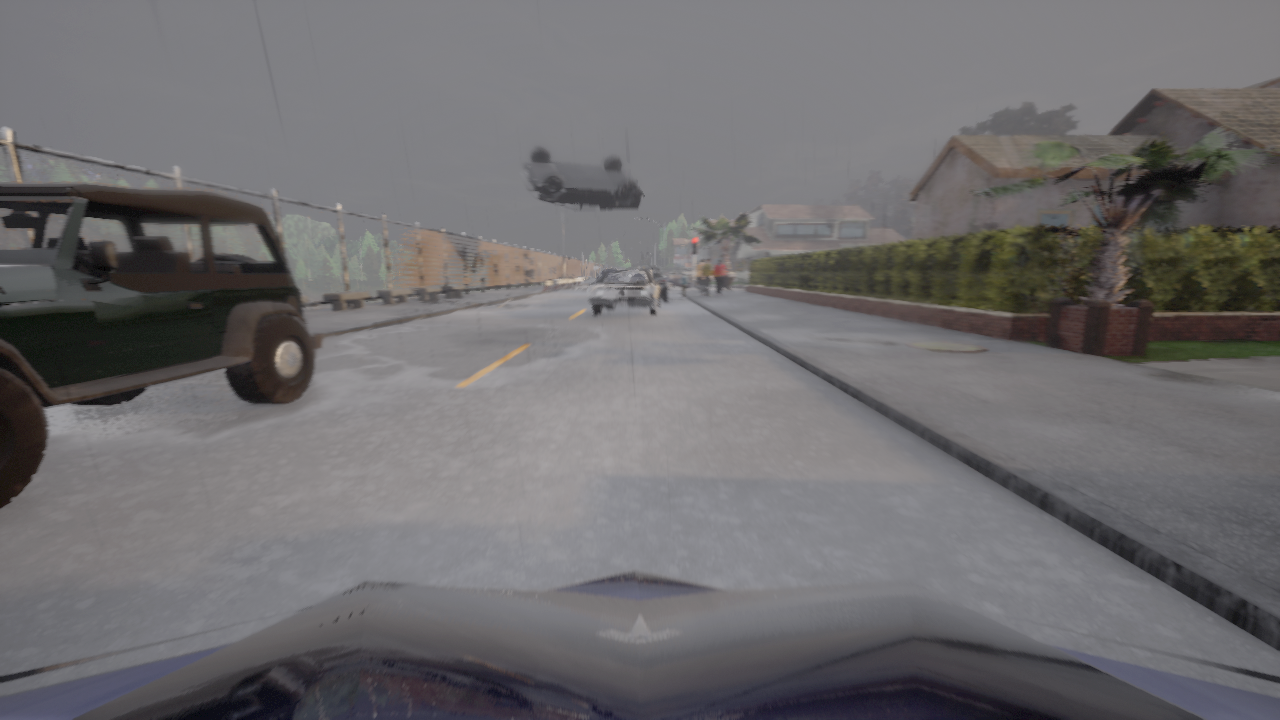cyclist: (0, 569, 1279, 719), (520, 145, 643, 209), (589, 270, 660, 314), (635, 267, 667, 301), (660, 268, 698, 289), (597, 270, 605, 280), (602, 268, 616, 273)
pedestrian: (701, 257, 713, 296), (713, 259, 726, 295), (696, 258, 704, 294), (680, 272, 687, 296)
